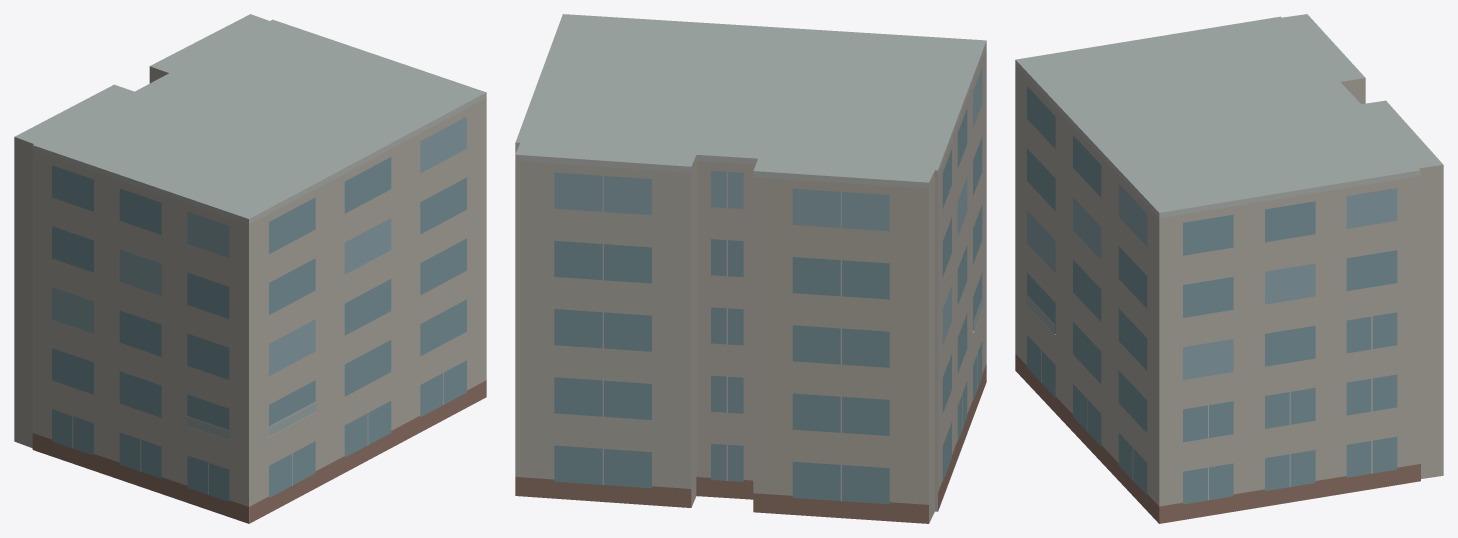
File: survey-upis-32839881.glb
The picture shows the model from 3 angles, left to right: view 1: azimuth 30°, elevation 25°; view 2: azimuth 150°, elevation 25°; view 3: azimuth 270°, elevation 25°; orthographic projection. The views are drawn at different scales.
Visible parts, largest first — view 1: survey-upis-32839881.tmp; view 2: survey-upis-32839881.tmp; view 3: survey-upis-32839881.tmp.
Part boxes in pixels (x1,y1,x2,y2): survey-upis-32839881.tmp: [14, 14, 486, 523]; survey-upis-32839881.tmp: [515, 14, 986, 523]; survey-upis-32839881.tmp: [1015, 14, 1443, 523].
Size of the model in its own units: 18.9 by 13.77 by 17.19.
